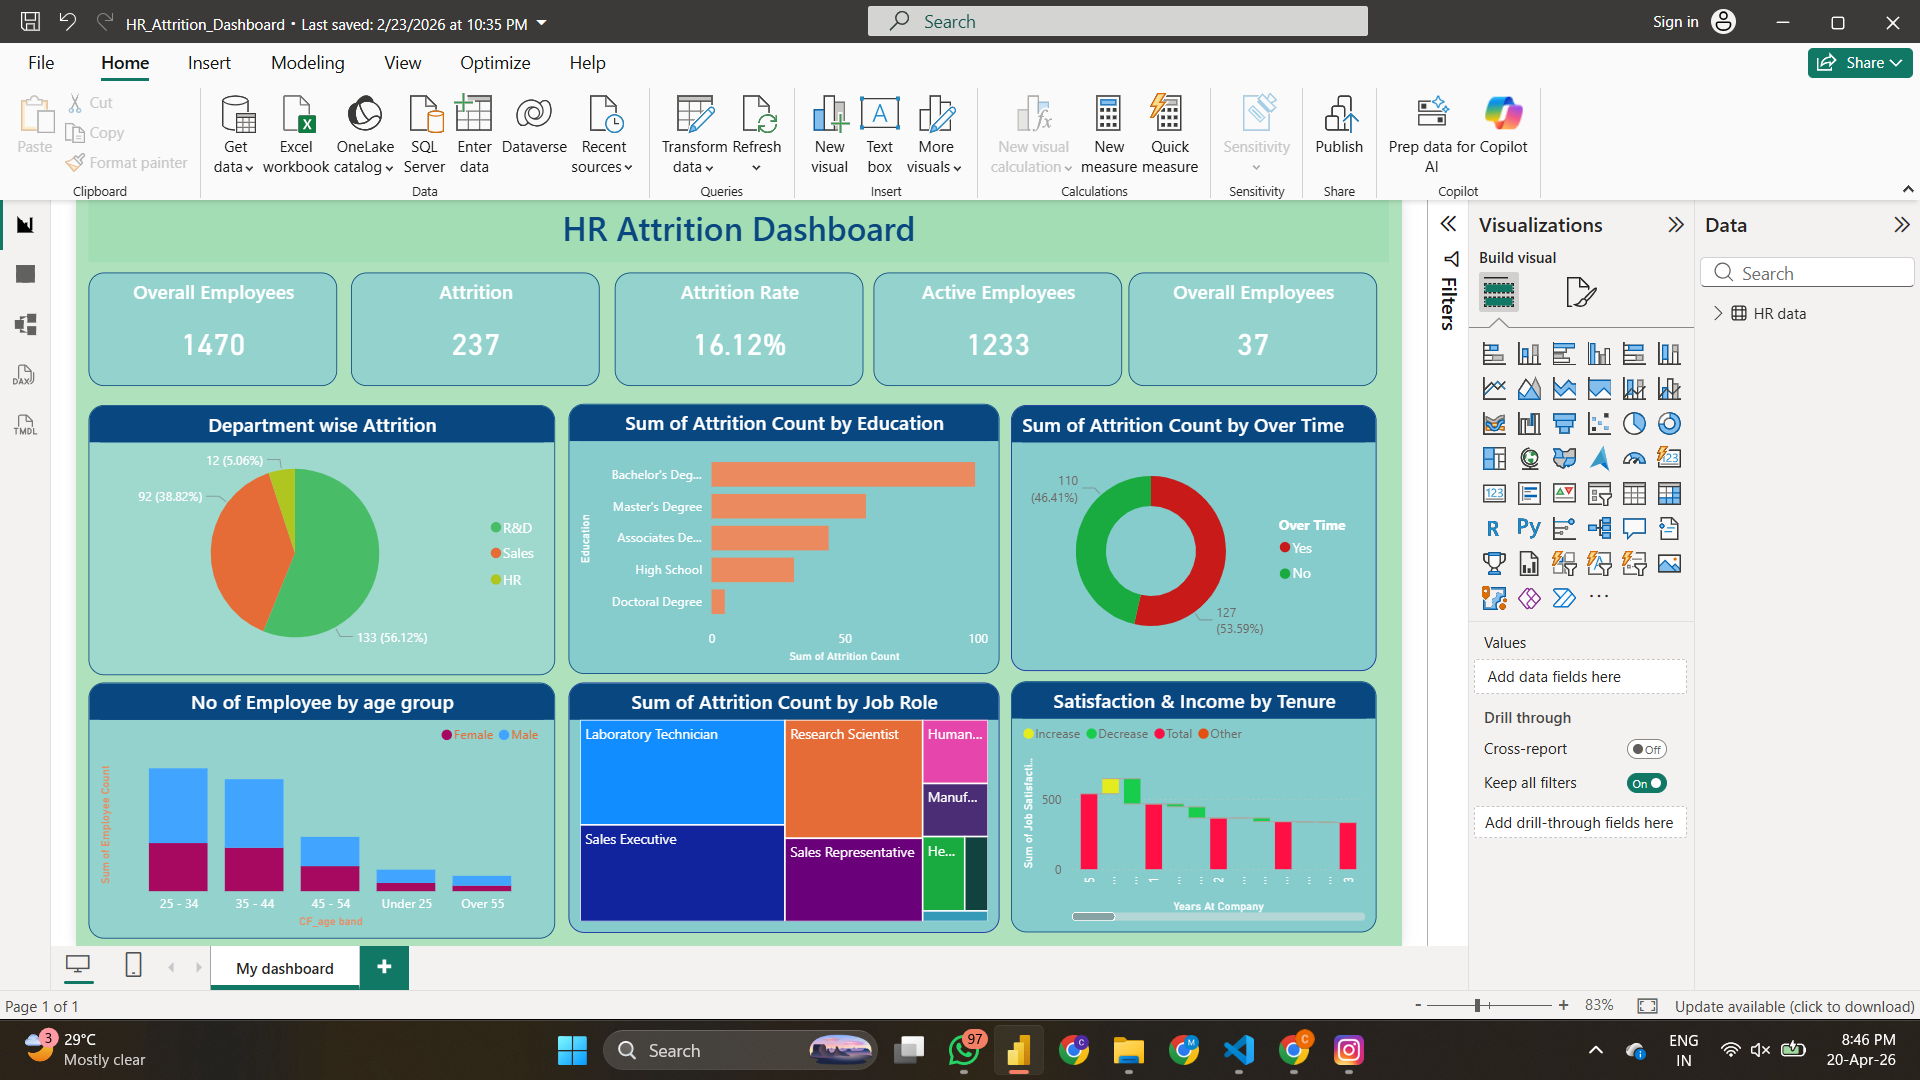

What the dashboard file says about the page in this screenshot:
{"tool":"powerbi","page":{"name":"My dashboard","canvas":[1280,720],"ordinal":0},"visuals":[{"type":"card","title":"Overall Employees","fields":{"Values":["Sum(HR data.Employee Count)"]},"box":[12.3,70,240.1,109.8],"z":0},{"type":"card","title":"Attrition","fields":{"Values":["Sum(HR data.Attrition Count)"]},"box":[264.8,70,240.1,109.8],"z":1000},{"type":"card","title":"Attrition Rate","fields":{"Values":["HR data.Attrition Rate"]},"box":[520.1,70,240.1,109.8],"z":2000},{"type":"card","title":"Active Employees","fields":{"Values":["HR data.Active Employee"]},"box":[769.8,70,240.1,109.8],"z":3000},{"type":"card","title":"Overall Employees","fields":{"Values":["Avg(HR data.Age)"]},"box":[1015.4,70,240.1,109.8],"z":4000},{"type":"pieChart","title":"Department wise Attrition ","fields":{"Category":["HR data.Department"],"Y":["Sum(HR data.Attrition Count)"]},"box":[12.3,197.6,450.1,260.7],"z":5000},{"type":"columnChart","title":"No of Employee by age group","fields":{"Category":["HR data.CF_age band"],"Y":["Sum(HR data.Employee Count)"],"Series":["HR data.Gender"]},"box":[12.3,465.2,450.1,247],"z":6000},{"type":"barChart","fields":{"Category":["HR data.Education"],"Y":["Sum(HR data.Attrition Count)"]},"box":[474.8,196.2,415.8,260.7],"z":7000},{"type":"donutChart","fields":{"Category":["HR data.Over Time"],"Y":["Sum(HR data.Attrition Count)"]},"box":[902.9,197.6,352.7,256.6],"z":8000},{"type":"treemap","fields":{"Values":["Sum(HR data.Attrition Count)"],"Group":["HR data.Job Role"]},"box":[474.8,465.2,415.8,241.5],"z":9000},{"type":"textbox","box":[12.3,0,1255.6,60.4],"z":10000},{"type":"waterfallChart","title":"Satisfaction & Income by Tenure","fields":{"Category":["HR data.Years At Company"],"Y":["Sum(HR data.Job Satisfaction)"],"Breakdown":["HR data.Attrition"]},"box":[903,465,353,242],"z":11000}]}

Visuals, with their boxes on the page's 1280x720 design canvas (x1, y1, x2, y2). These are canvas units, not pixel positions in the 1920x1080 screenshot, which may show the page scaled, cropped or inside an application window:
"Overall Employees" card: {"left": 12, "top": 70, "right": 252, "bottom": 180}
"Attrition" card: {"left": 265, "top": 70, "right": 505, "bottom": 180}
"Attrition Rate" card: {"left": 520, "top": 70, "right": 760, "bottom": 180}
"Active Employees" card: {"left": 770, "top": 70, "right": 1010, "bottom": 180}
"Overall Employees" card: {"left": 1015, "top": 70, "right": 1256, "bottom": 180}
"Department wise Attrition " pieChart: {"left": 12, "top": 198, "right": 462, "bottom": 458}
"No of Employee by age group" columnChart: {"left": 12, "top": 465, "right": 462, "bottom": 712}
barChart - HR data.Education x Sum(HR data.Attrition Count): {"left": 475, "top": 196, "right": 891, "bottom": 457}
donutChart - HR data.Over Time x Sum(HR data.Attrition Count): {"left": 903, "top": 198, "right": 1256, "bottom": 454}
treemap - Sum(HR data.Attrition Count) x HR data.Job Role: {"left": 475, "top": 465, "right": 891, "bottom": 707}
textbox: {"left": 12, "top": 0, "right": 1268, "bottom": 60}
"Satisfaction & Income by Tenure" waterfallChart: {"left": 903, "top": 465, "right": 1256, "bottom": 707}
